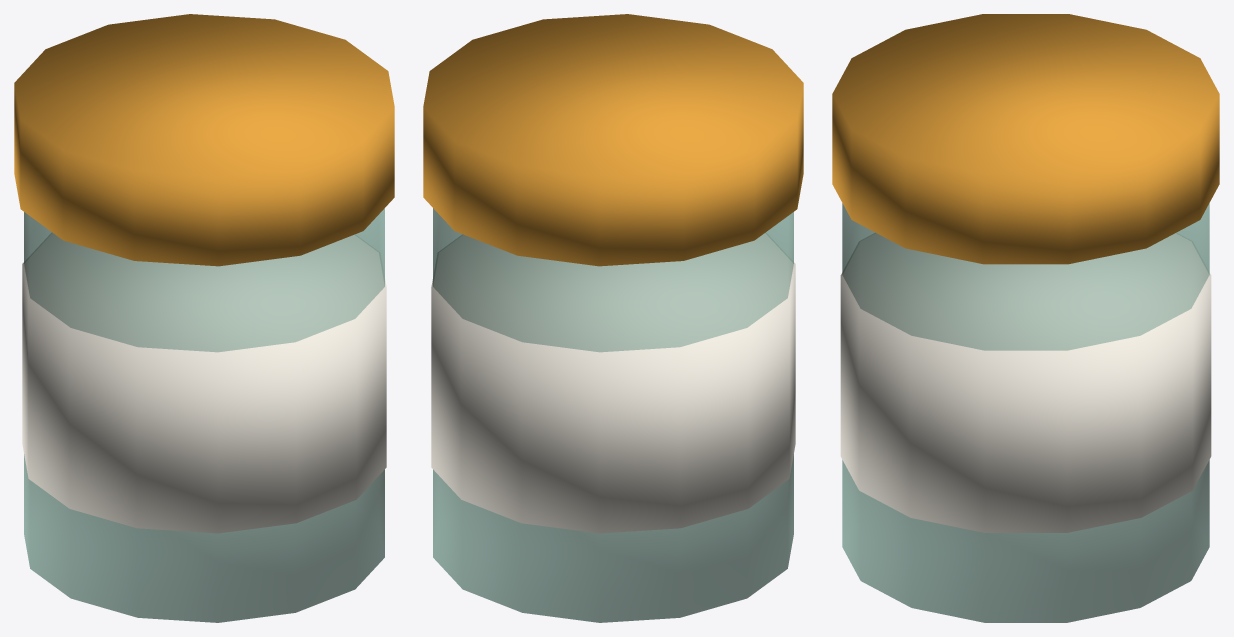
Rendered from product-jar.glb.
3 renders of one model, left to right at view 1: azimuth 30°, elevation 25°; view 2: azimuth 150°, elevation 25°; view 3: azimuth 270°, elevation 25°, orthographic.
Parts seen in each view (by area): view 1: Label, Lid, Body; view 2: Label, Lid, Body; view 3: Label, Lid, Body.
Boxes of the visible parts, box(x1,y1,x2,y2) form: Label: box(22, 233, 386, 533); Lid: box(14, 14, 394, 266); Body: box(24, 208, 384, 622); Label: box(431, 233, 795, 533); Lid: box(423, 14, 803, 266); Body: box(433, 208, 793, 622); Label: box(840, 233, 1211, 532); Lid: box(832, 14, 1219, 264); Body: box(842, 203, 1209, 622).
Size of the model in its own units: 0.1131 by 0.15 by 0.116.
